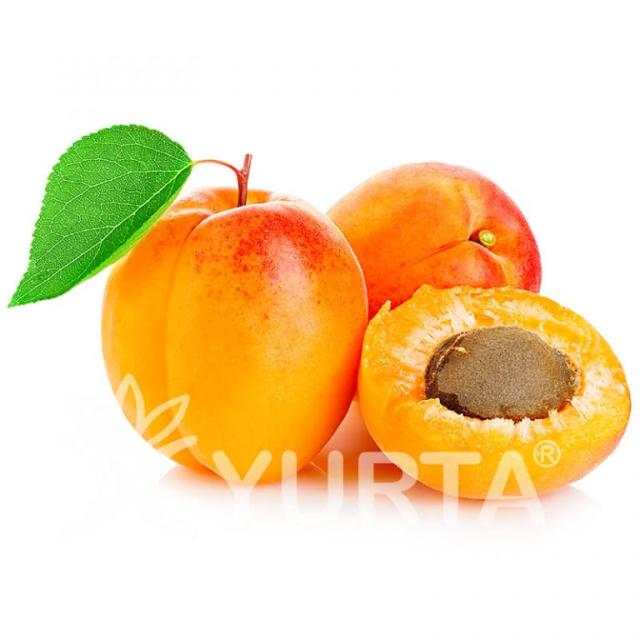Cekirdek: (426, 326, 579, 419)
Kayisi: (329, 162, 539, 318)
Yaprak: (8, 124, 193, 307)
